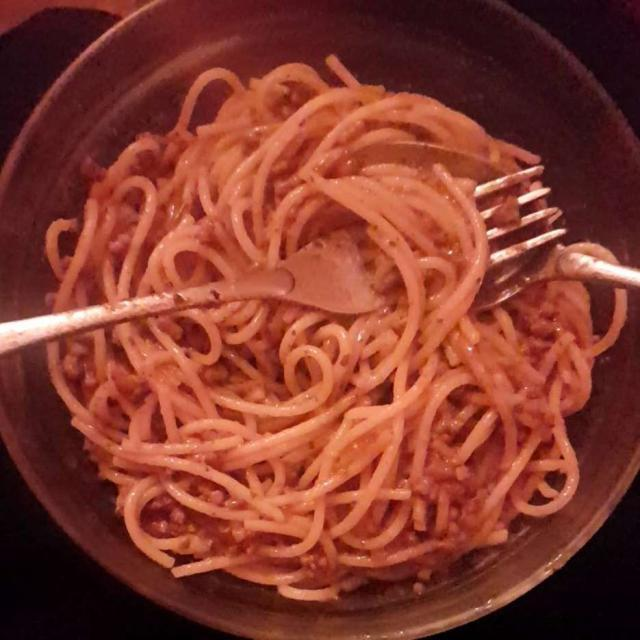pasta: (60, 87, 587, 568)
